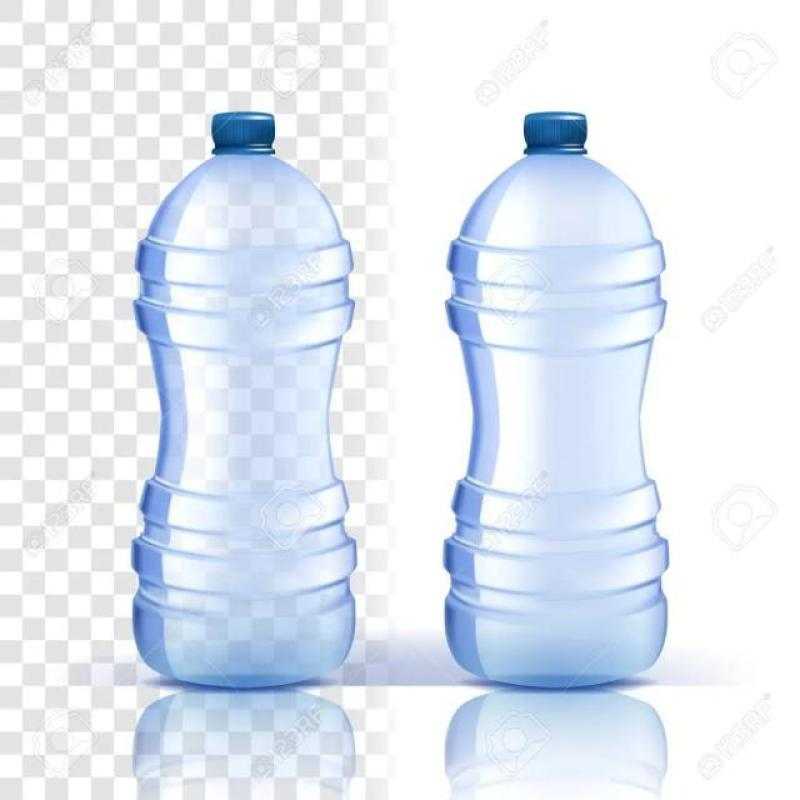botella: (125, 111, 357, 687), (442, 111, 666, 687)
